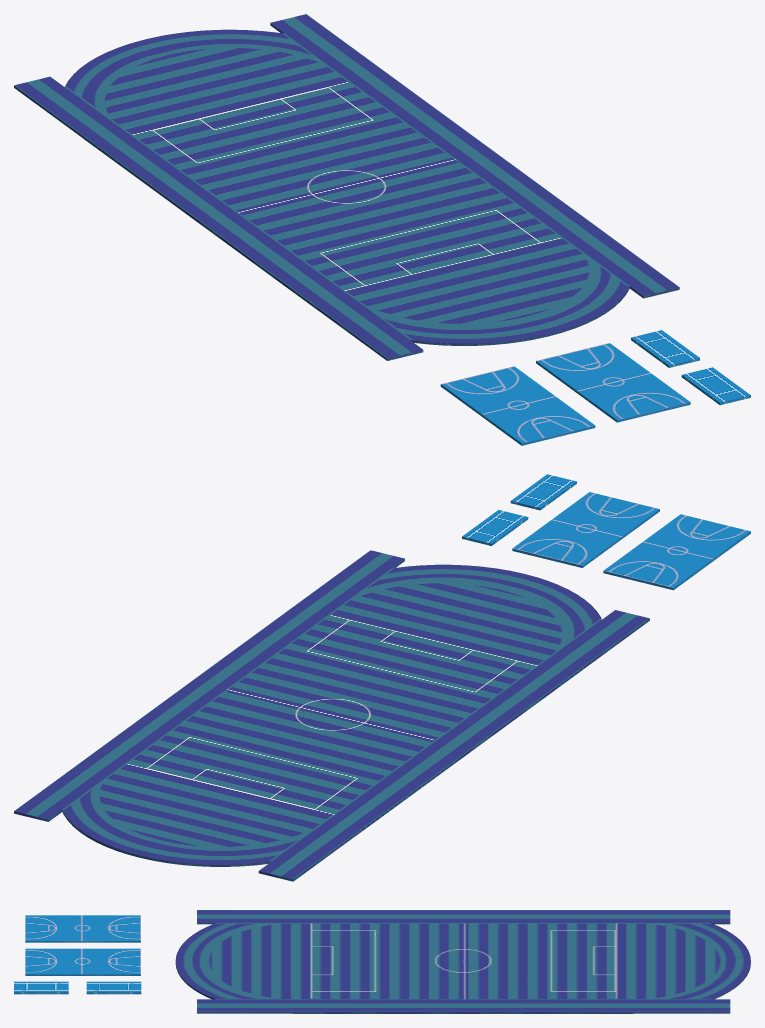
Rendered from playground.obj.
3 views of the same model, one above another, from view 1: azimuth 30°, elevation 25°; view 2: azimuth 150°, elevation 25°; view 3: azimuth 270°, elevation 25° (orthographic). The views are drawn at different scales.
Bounding box in the file's own units: 1227 × 11.42 × 3748.
Materials: 3 (3 with a texture image).
